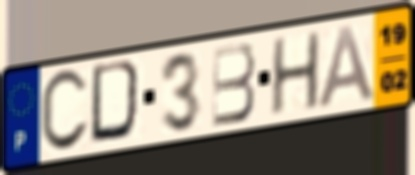3: (158, 48, 203, 135)
A: (315, 23, 380, 111)
B: (210, 40, 258, 130)
C: (38, 66, 91, 156)
D: (88, 57, 147, 147)
H: (268, 29, 322, 119)
